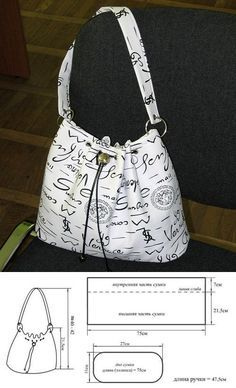cuero: (28, 118, 190, 263)
